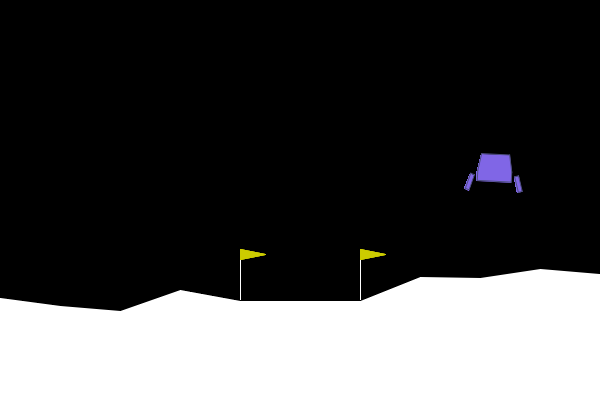lander: (463, 151, 525, 194)
